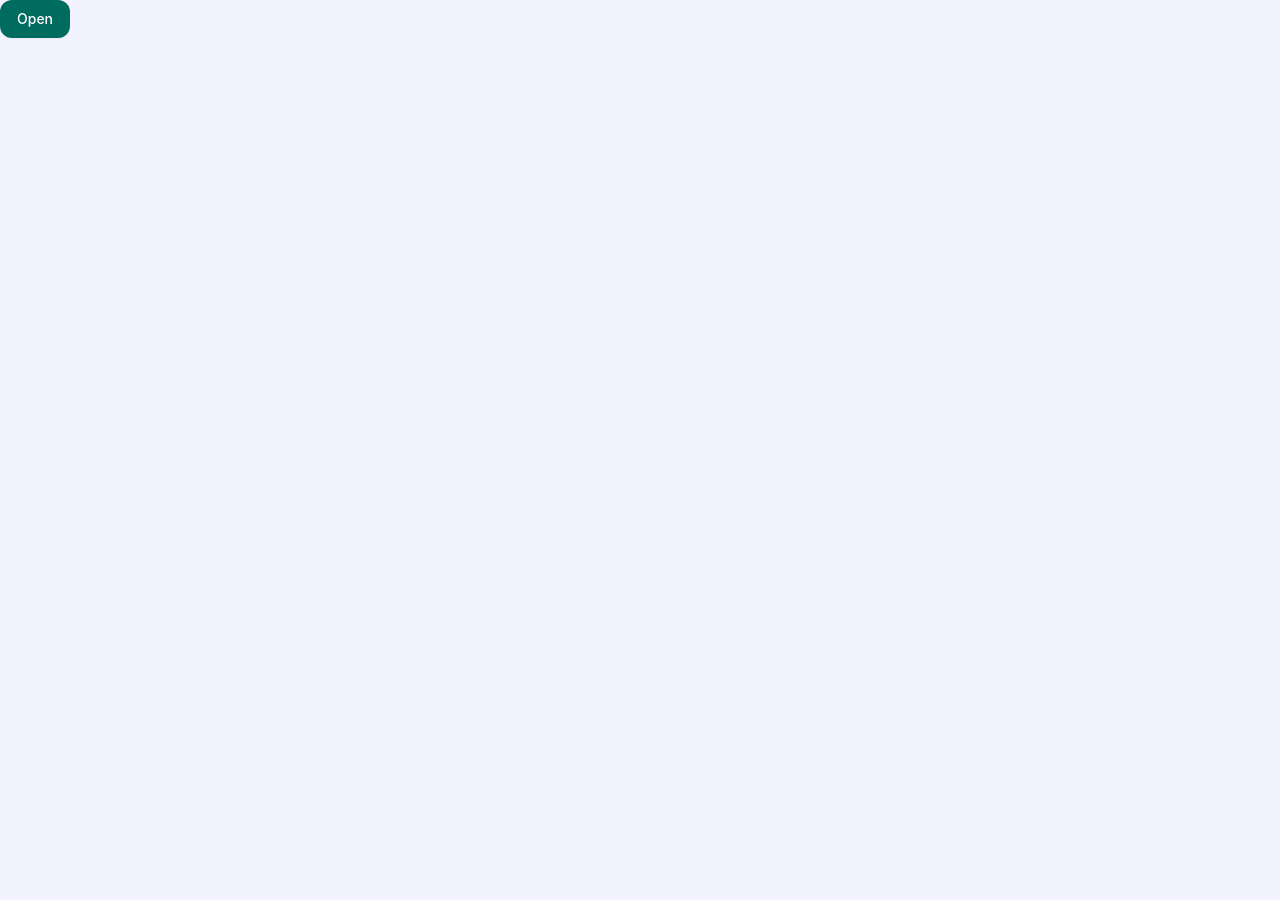
ConfirmDialog (Requirement 45, FIX-07 to FIX-11) › names the item, runs nothing until confirmed, and runs exactly once after
Click the button "Open" at (35, 19), box [0,0,70,38]
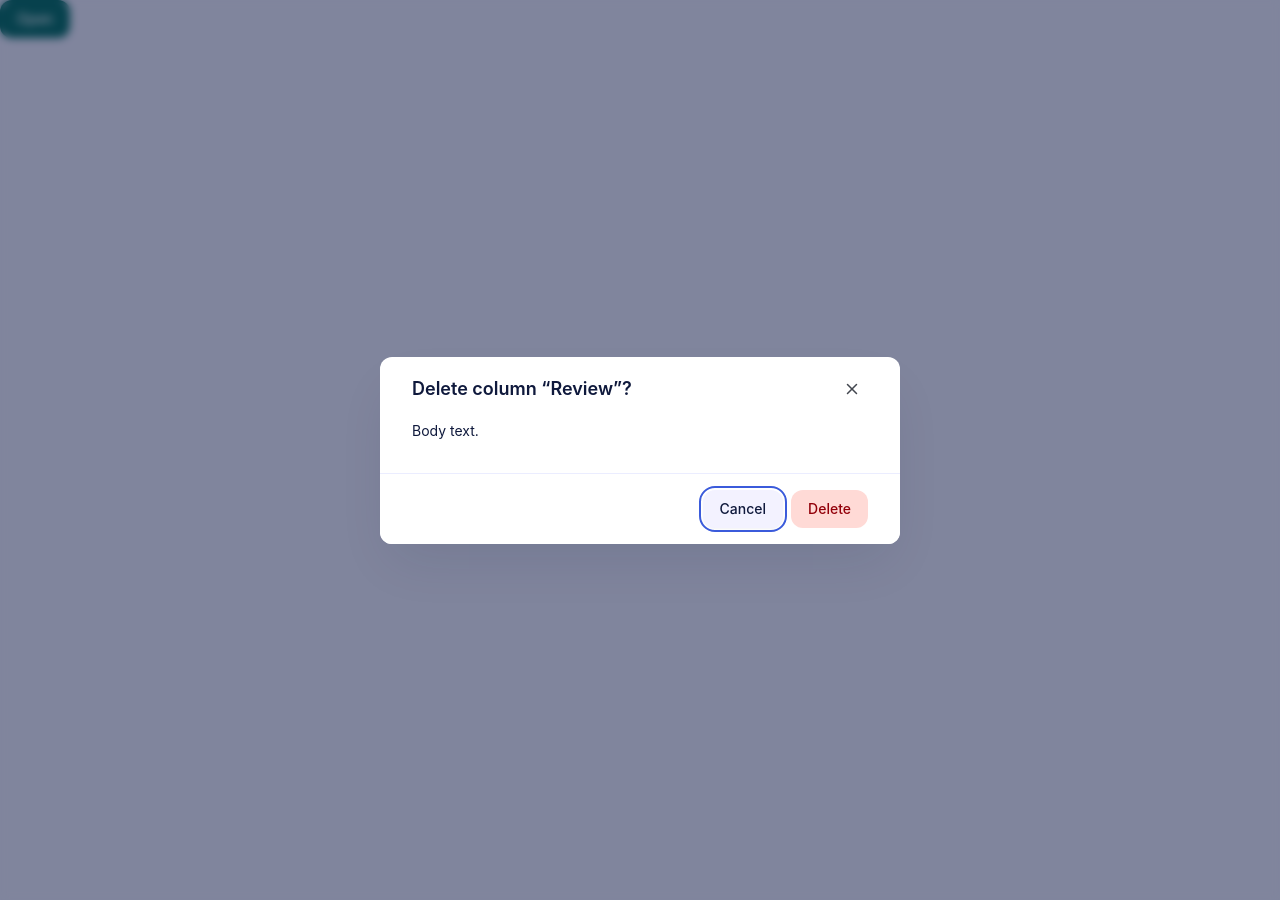
Check: the dialog "Delete column “Review”?" is shown, box [380,356,900,544]
Click the button "Delete" at (830, 508), box [791,490,868,528]
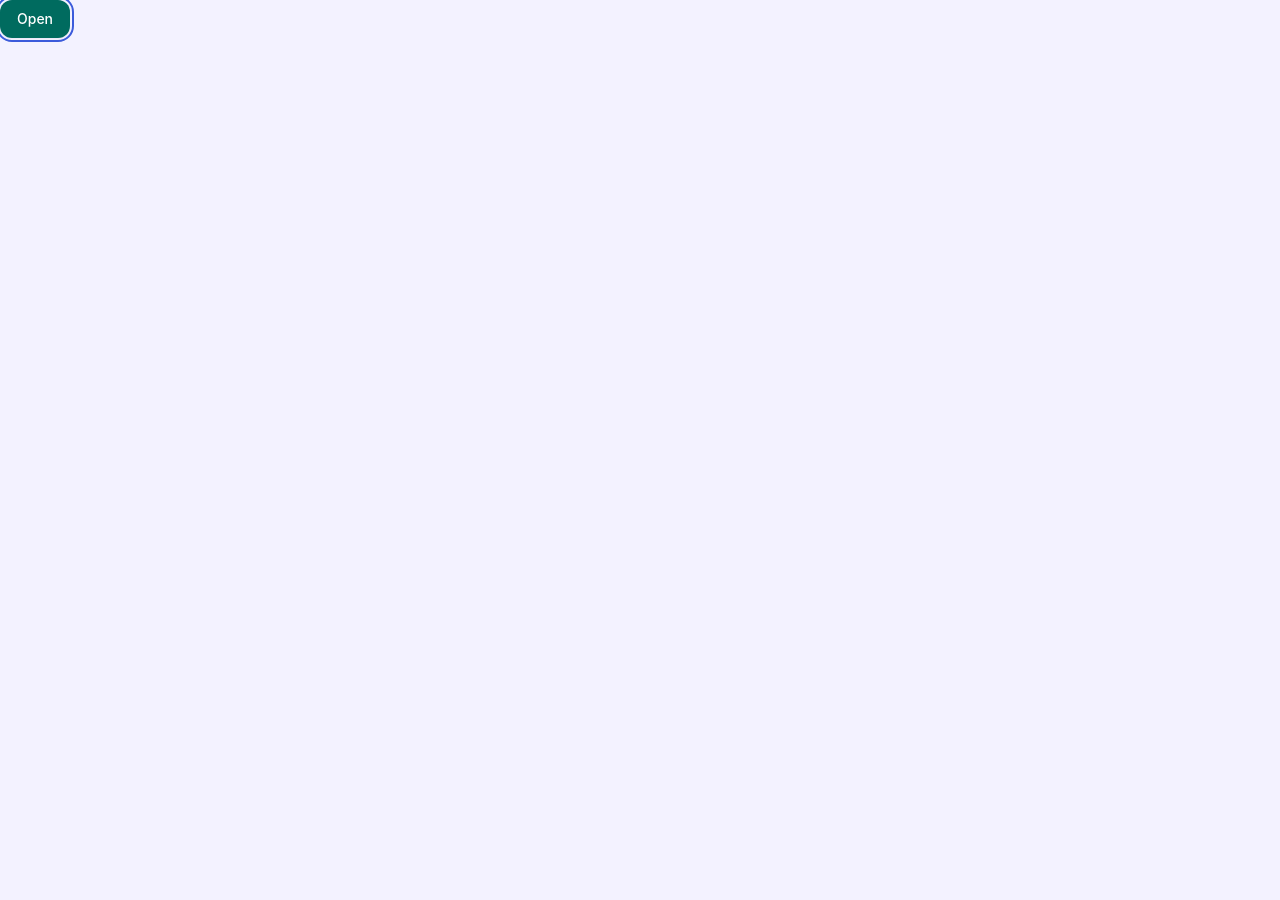
Check: the dialog is gone
